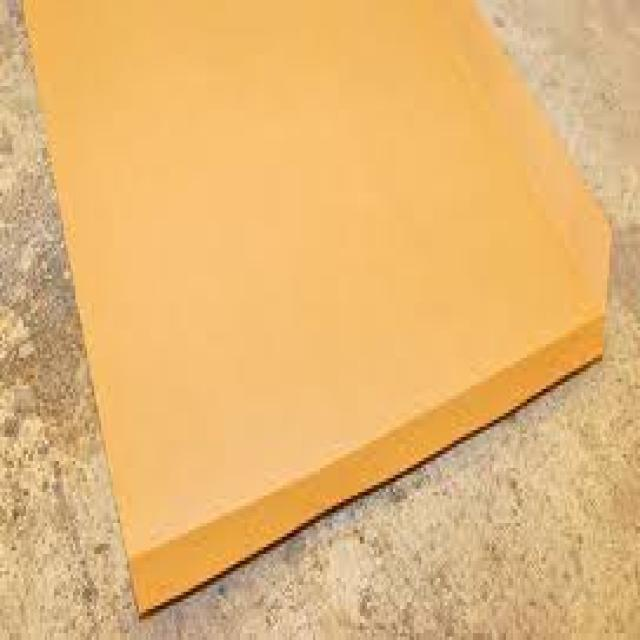Cardboard: (23, 0, 611, 615)
